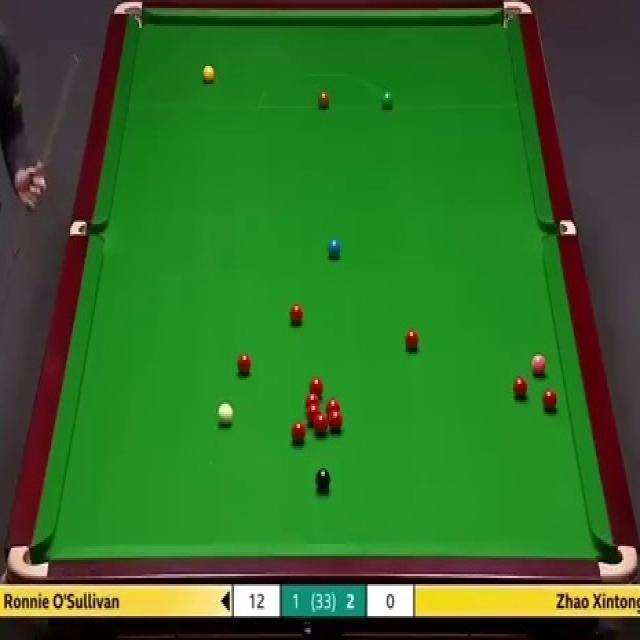black-ball: (316, 466, 330, 494)
blue-ball: (327, 237, 342, 258)
brown-ball: (317, 90, 330, 110)
green-ball: (382, 92, 394, 109)
pink-ball: (531, 352, 547, 378)
red-ball: (236, 352, 253, 379), (540, 390, 557, 414), (289, 420, 306, 444), (514, 376, 530, 401), (328, 410, 343, 435), (405, 328, 420, 352), (289, 304, 304, 326), (314, 413, 328, 435), (308, 377, 324, 394), (306, 406, 320, 424), (306, 392, 320, 408), (326, 401, 340, 414)
white-ball: (216, 401, 232, 426)
yellow-ball: (203, 65, 216, 86)
